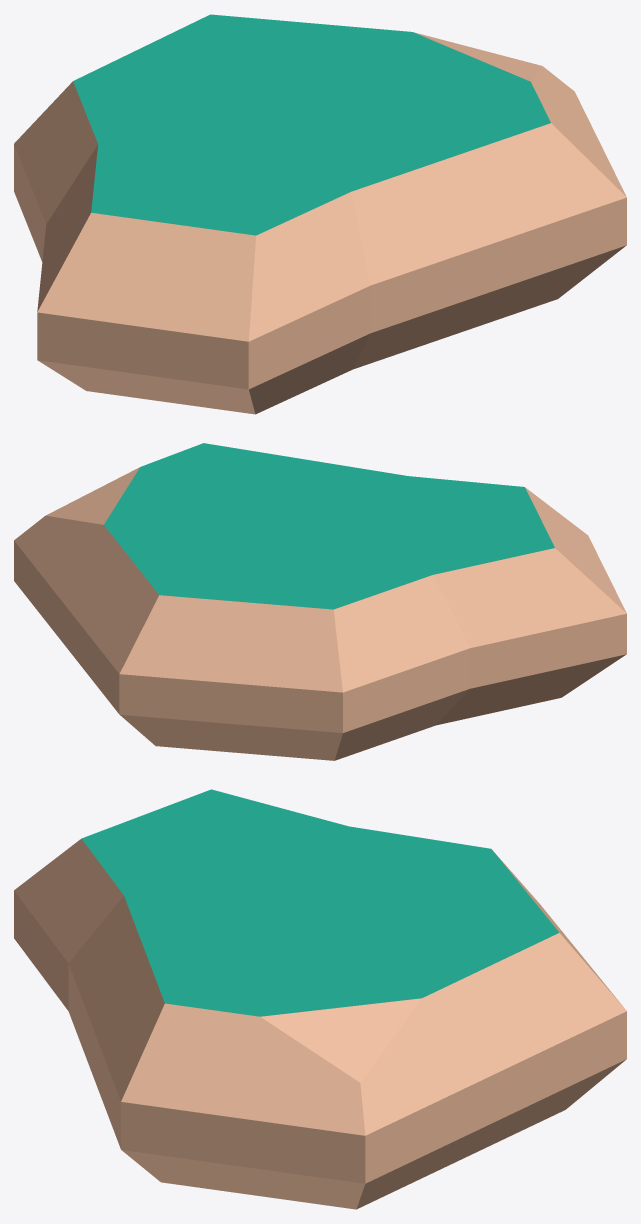
The model's file is rock_largeE.glb.
3 renders of one model, top to bottom at view 1: azimuth 30°, elevation 25°; view 2: azimuth 150°, elevation 25°; view 3: azimuth 270°, elevation 25°, orthographic. The views are drawn at different scales.
Parts seen in each view (by area): view 1: rock_largeE; view 2: rock_largeE; view 3: rock_largeE.
Boxes of the visible parts, <box> form: rock_largeE: <box>14,14,626,414</box>; rock_largeE: <box>14,443,626,760</box>; rock_largeE: <box>14,789,626,1209</box>.
Bounding box in the file's own units: 1.1 × 0.2922 × 0.9199.
